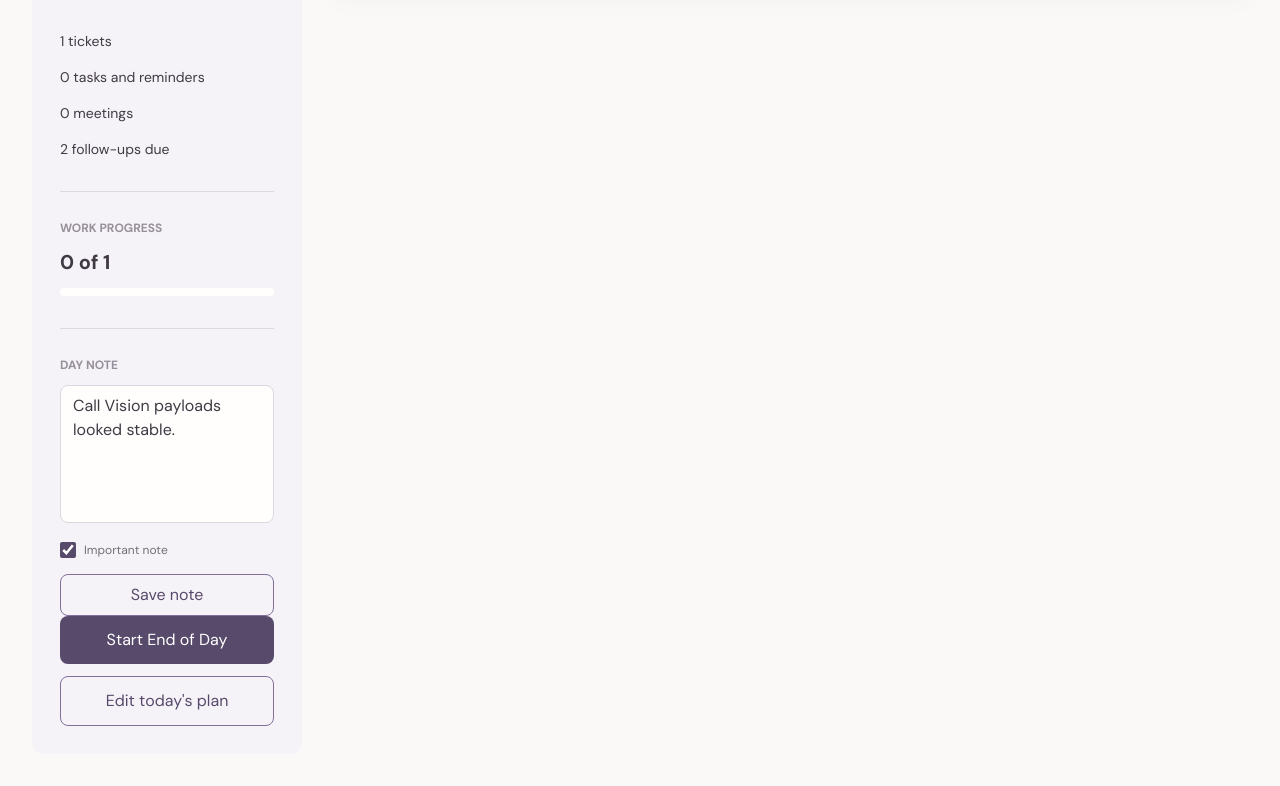
Test case: DailyToday › saves the day note from the Today sidebar
The width and height of the screenshot is (1280, 786).
(page scrolled)
Expected: the checkbox labelled "Important note" is checked, [60,542,76,558]
Replace the text in the text box named "Day note" with "Reviewed report exports before EOD.". click: (167, 454)
box: [60,385,274,523]
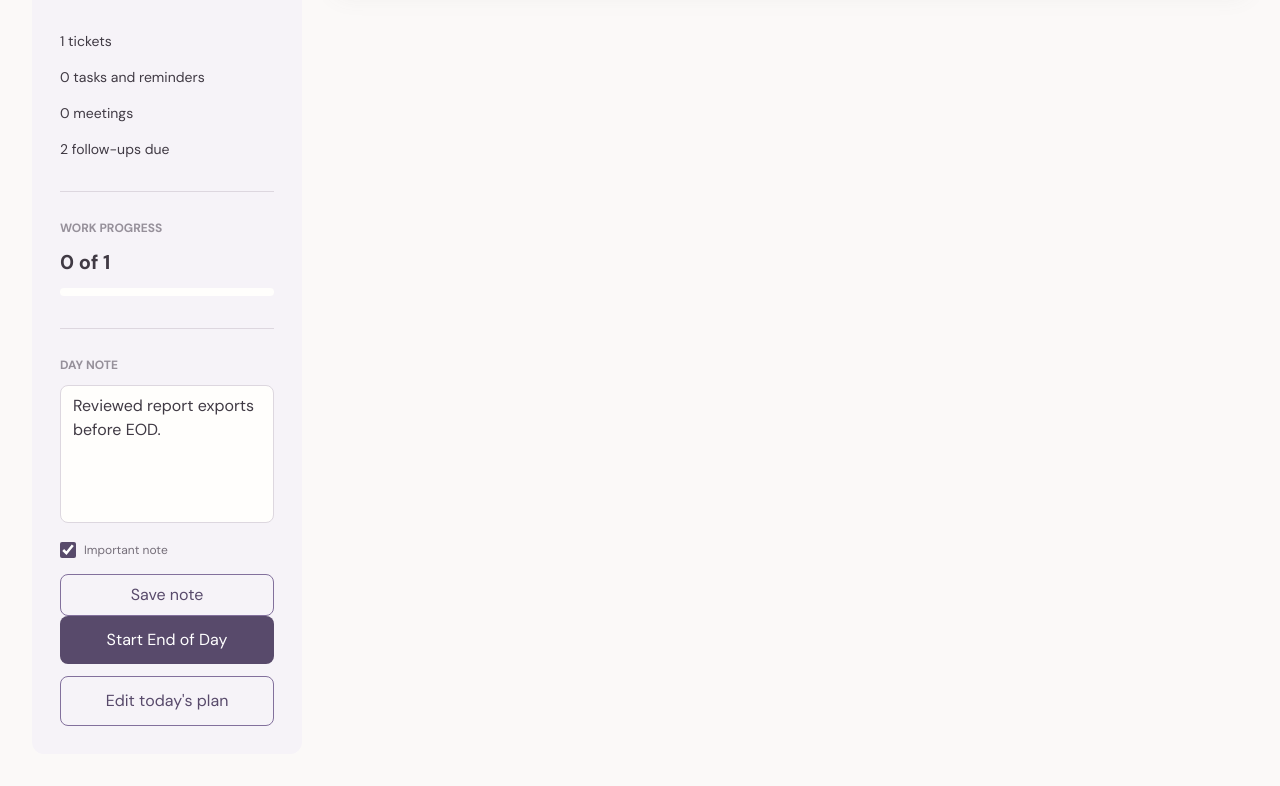
Click the checkbox labelled "Important note". click: (68, 550)
box: [60,542,76,558]
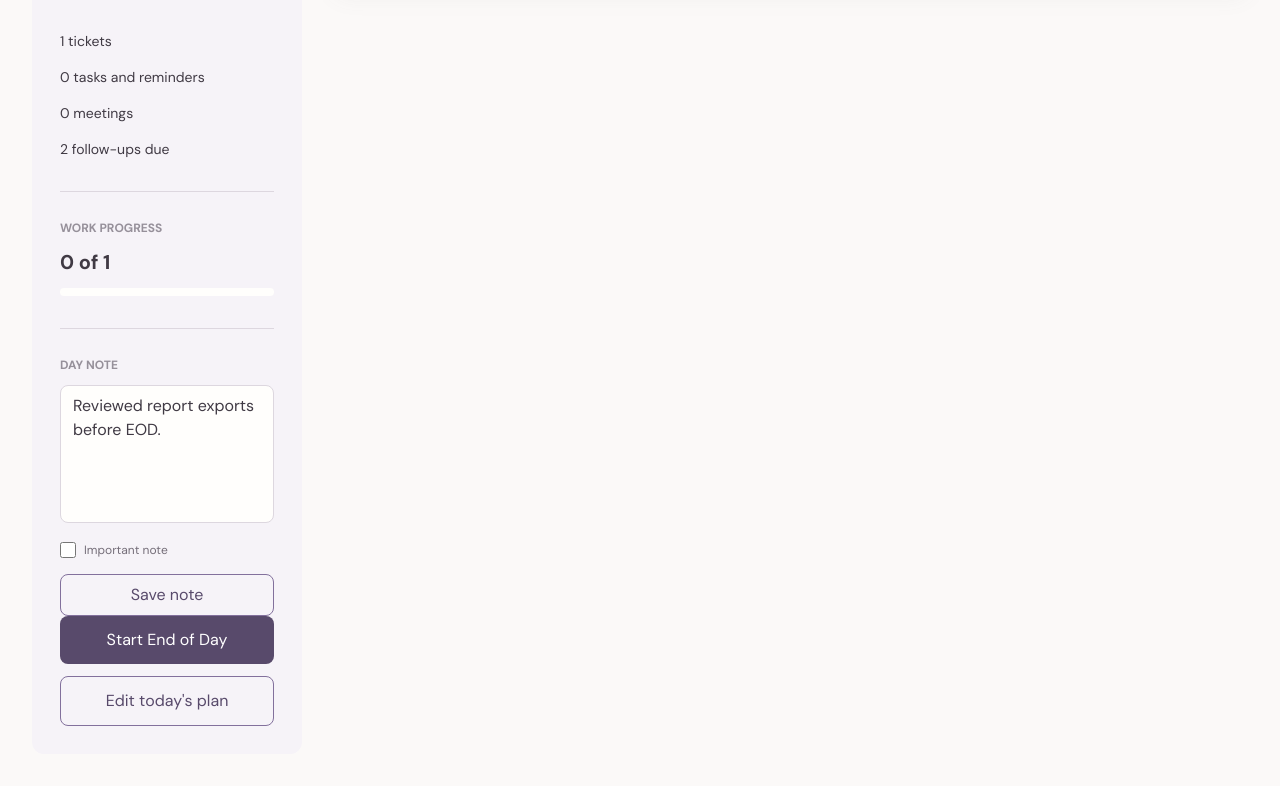
Click the button "Save note". click: (167, 595)
box: [60,574,274,616]
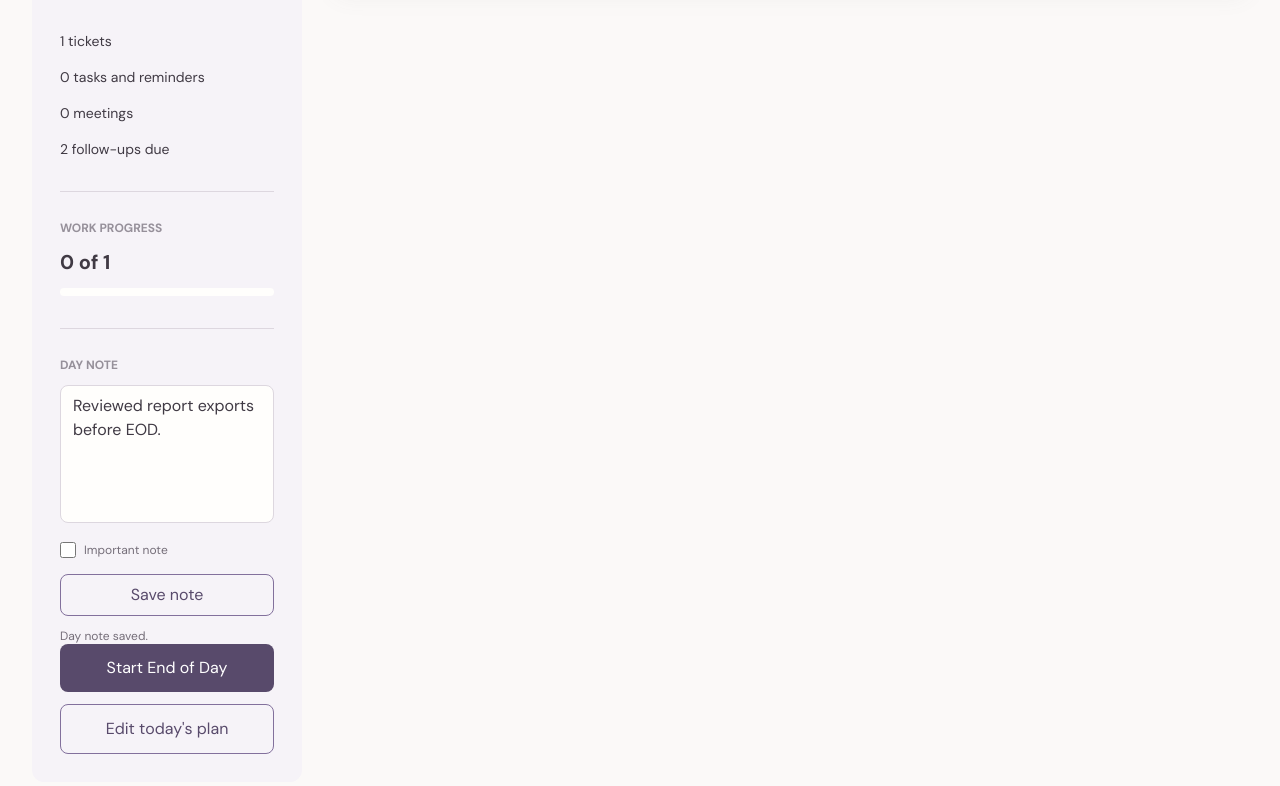
Result: the message reads "Day note saved." at [60,628,148,644]
